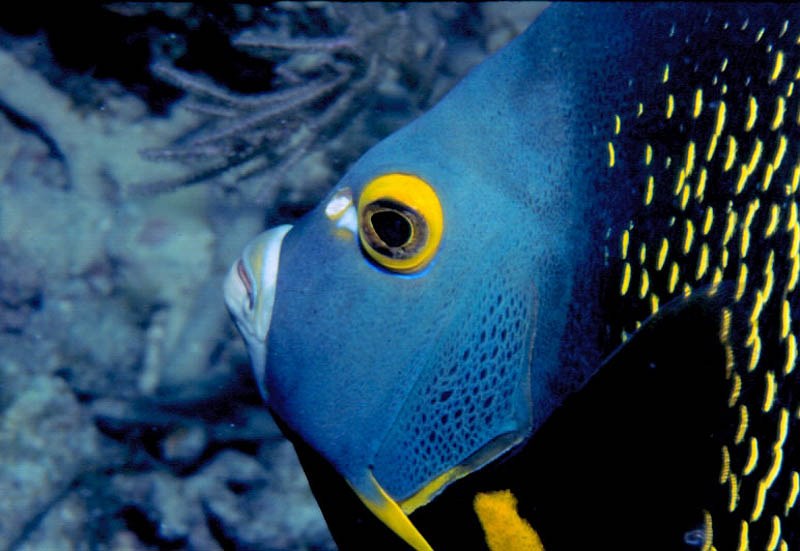Pomacanthus_paru: (198, 2, 800, 542)
